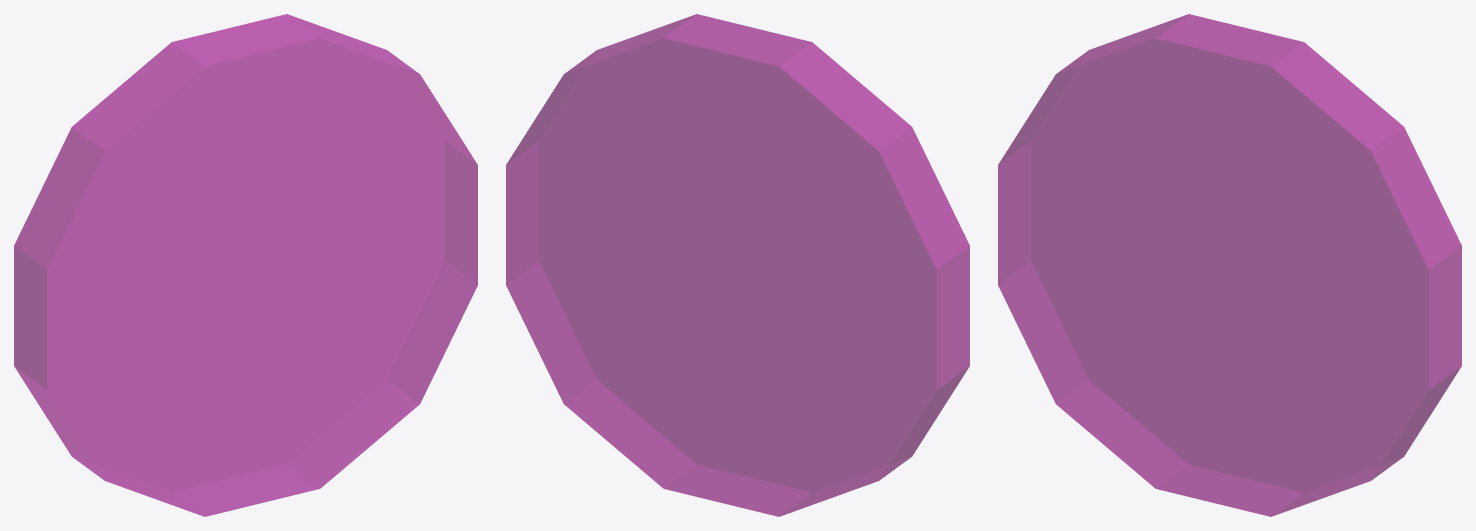
File: SM_Veh_Wagon_02_Wheel_Front_R_01_Collision.fbx
3 views of the same model, side by side, from view 1: azimuth 30°, elevation 25°; view 2: azimuth 150°, elevation 25°; view 3: azimuth 330°, elevation 25° (orthographic).
Visible parts, largest first — view 1: SM_Veh_Wagon_02_Wheel_Front_R_01_Collision; view 2: SM_Veh_Wagon_02_Wheel_Front_R_01_Collision; view 3: SM_Veh_Wagon_02_Wheel_Front_R_01_Collision.
Part boxes in pixels (x1=…): SM_Veh_Wagon_02_Wheel_Front_R_01_Collision: x1=14, y1=14, x2=477, y2=516; SM_Veh_Wagon_02_Wheel_Front_R_01_Collision: x1=506, y1=14, x2=969, y2=516; SM_Veh_Wagon_02_Wheel_Front_R_01_Collision: x1=998, y1=14, x2=1461, y2=516.
Size of the model in its own units: 137 by 137 by 18.34.
